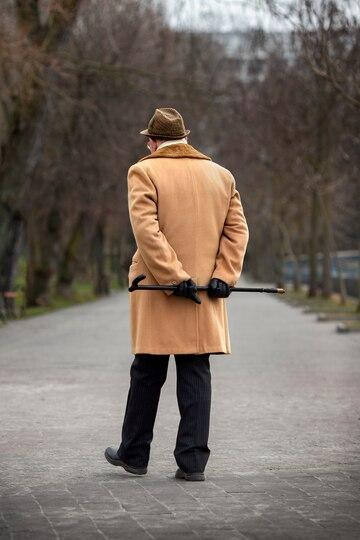Human: (116, 87, 257, 523)
